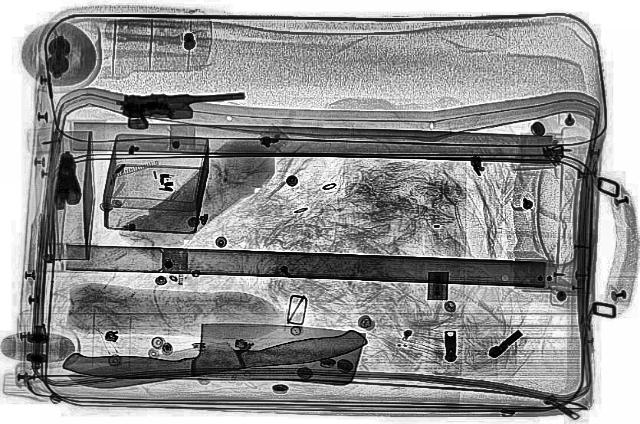Gun: (115, 86, 251, 130), (51, 151, 90, 210)
Knife: (55, 316, 368, 400), (57, 315, 365, 389)
